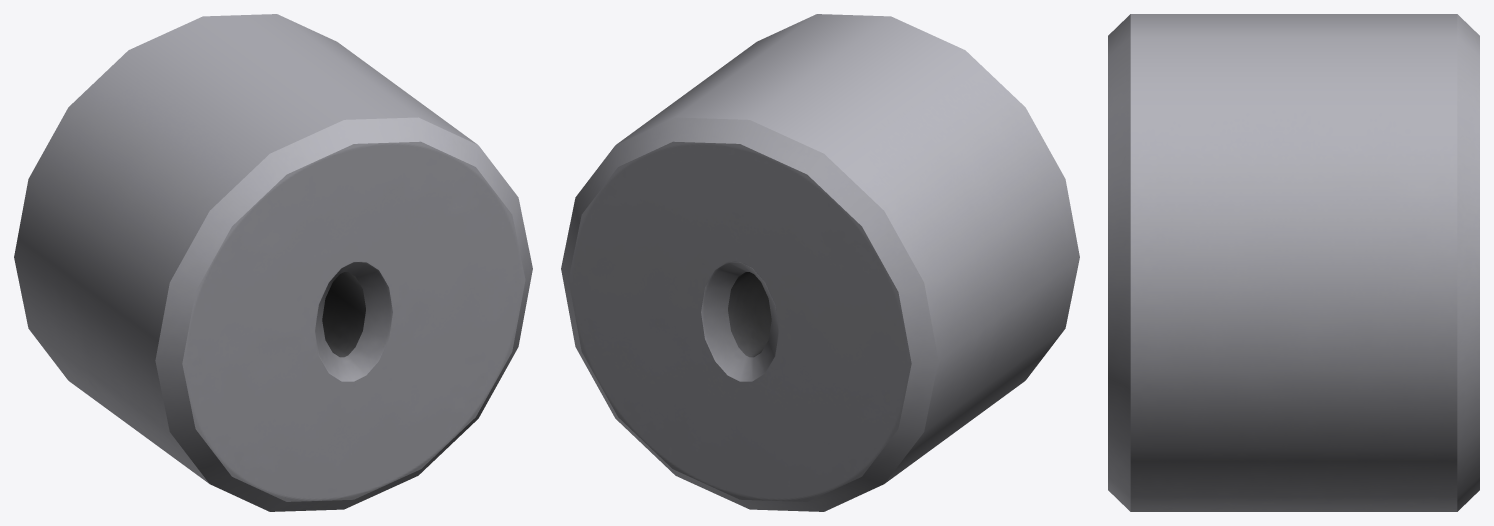
Rendered from Ring.FBX.
The picture shows the model from 3 angles, left to right: view 1: azimuth 30°, elevation 25°; view 2: azimuth 150°, elevation 25°; view 3: azimuth 270°, elevation 25°; orthographic projection. The views are drawn at different scales.
Visible parts, largest first — view 1: Ring; view 2: Ring; view 3: Ring.
Boxes of the visible parts, x1,y1,x2,y2 form: Ring: (14, 14, 532, 511); Ring: (561, 14, 1079, 511); Ring: (1108, 14, 1479, 511).
Bounding box in the file's own units: 44.72 × 44.1 × 33.
